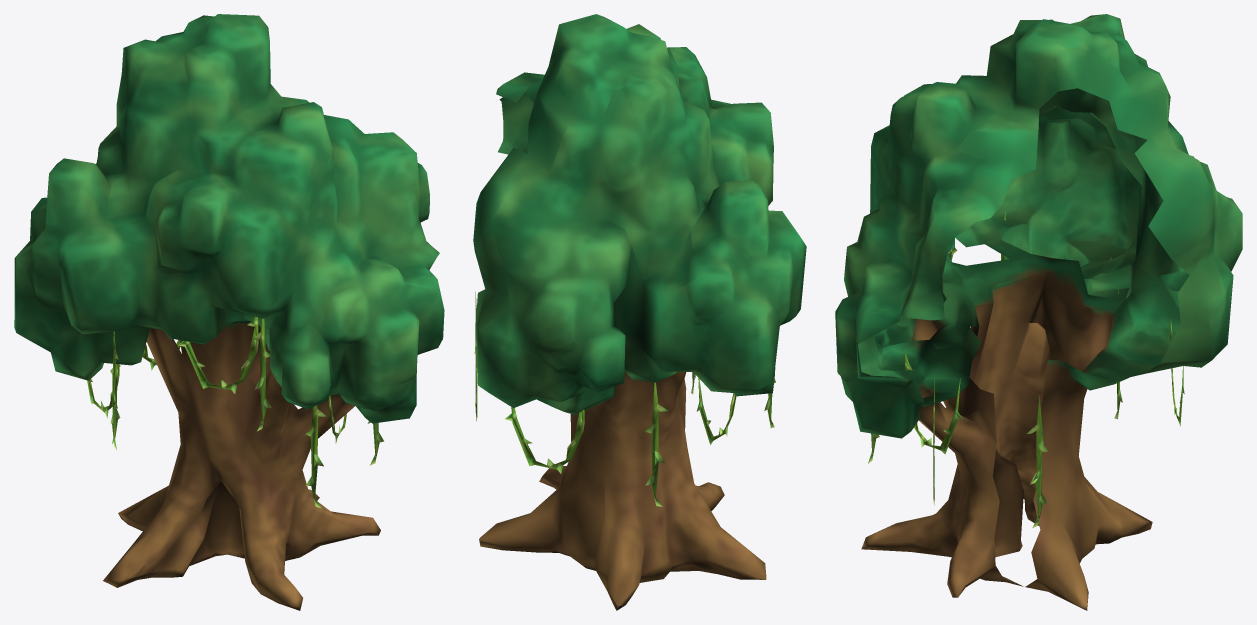
The model's file is GiantTreeLOD1.fbx.
3 views of the same model, side by side, from view 1: azimuth 30°, elevation 25°; view 2: azimuth 150°, elevation 25°; view 3: azimuth 270°, elevation 25° (orthographic). The views are drawn at different scales.
Parts seen in each view (by area): view 1: LOD1; view 2: LOD1; view 3: LOD1.
Part boxes in pixels (box(x1,y1,x2,y2)): LOD1: box(14, 14, 444, 610); LOD1: box(473, 14, 806, 610); LOD1: box(835, 14, 1242, 610).
Size of the model in its own units: 41.26 by 59.98 by 41.41.
